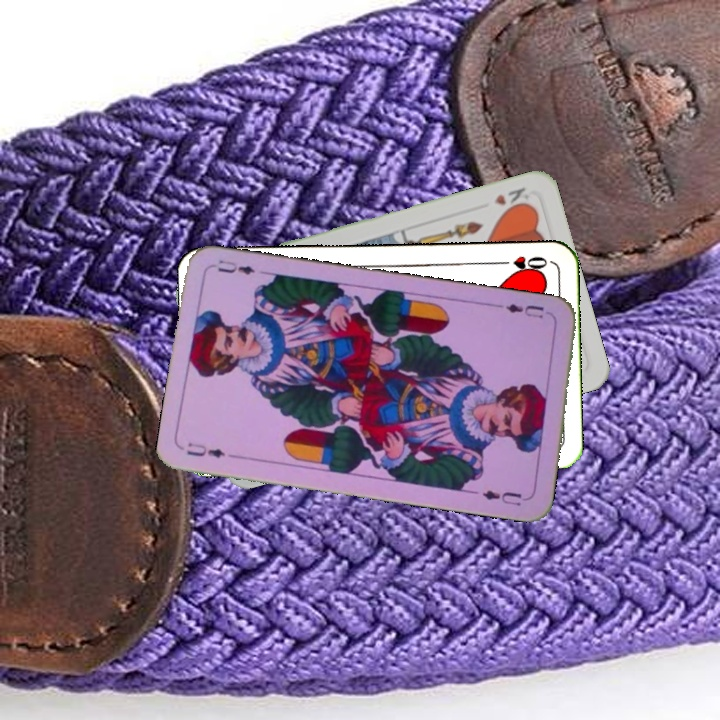EU: (495, 299, 547, 321), (183, 438, 228, 460)
HK: (490, 183, 532, 214)
HO: (493, 252, 550, 275)
